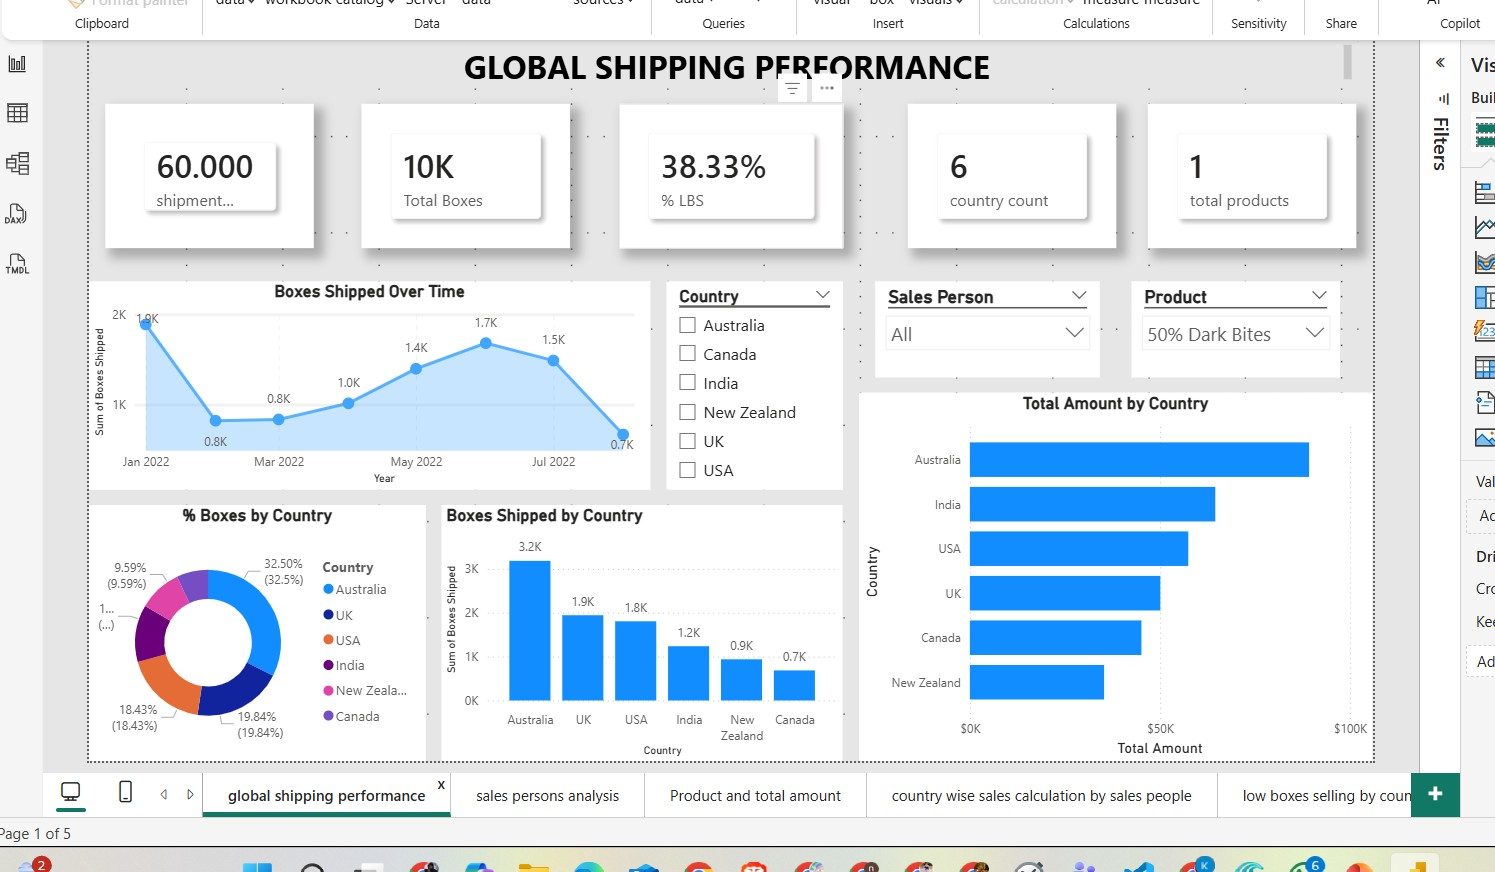

What the dashboard file says about the page in this screenshot:
{"tool":"powerbi","page":{"name":"global shipping performance","canvas":[1280,720],"ordinal":0},"visuals":[{"type":"textbox","box":[16,0,1248,48],"z":0},{"type":"cardVisual","fields":{"Data":["data.shipment count"]},"box":[16,64,208,144],"z":1000},{"type":"cardVisual","fields":{"Data":["data.Total Boxes"]},"box":[272,64,208,144],"z":2000},{"type":"cardVisual","fields":{"Data":["data.% LBS"]},"box":[528,64,224,144],"z":3000},{"type":"cardVisual","fields":{"Data":["data.country count"]},"box":[816,64,208,144],"z":4000},{"type":"cardVisual","fields":{"Data":["data.total products"]},"box":[1056,64,208,144],"z":5000},{"type":"donutChart","fields":{"Y":["data.% Boxes"],"Category":["data.Country"]},"box":[0,464,336,256],"z":6000},{"type":"lineChart","title":"Boxes Shipped Over Time","fields":{"Category":["data.Date.Variation.Date Hierarchy.Year","data.Date.Variation.Date Hierarchy.Quarter","data.Date.Variation.Date Hierarchy.Month"],"Y":["Sum(data.Boxes Shipped)"]},"box":[0,240,560,208],"z":7000},{"type":"slicer","fields":{"Values":["data.Product"]},"box":[1040,240,208,96],"z":8000},{"type":"slicer","fields":{"Values":["data.Sales Person"]},"box":[784,240,224,96],"z":9000},{"type":"clusteredColumnChart","title":"Boxes Shipped by Country","fields":{"Category":["data.Country"],"Y":["Sum(data.Boxes Shipped)"]},"box":[352,464,400,256],"z":10000},{"type":"barChart","fields":{"Category":["data.Country"],"Y":["data.Total Amount"]},"box":[768,352,512,368],"z":11000},{"type":"slicer","fields":{"Values":["data.Country"]},"box":[576,240,176,208],"z":12000}]}

Visuals, with their boxes on the page's 1280x720 design canvas (x1, y1, x2, y2). These are canvas units, not pixel positions in the 1495x872 screenshot, which may show the page scaled, cropped or inside an application window:
textbox: (16,0,1264,48)
cardVisual - data.shipment count: (16,64,224,208)
cardVisual - data.Total Boxes: (272,64,480,208)
cardVisual - data.% LBS: (528,64,752,208)
cardVisual - data.country count: (816,64,1024,208)
cardVisual - data.total products: (1056,64,1264,208)
donutChart - data.% Boxes x data.Country: (0,464,336,720)
"Boxes Shipped Over Time" lineChart: (0,240,560,448)
slicer - data.Product: (1040,240,1248,336)
slicer - data.Sales Person: (784,240,1008,336)
"Boxes Shipped by Country" clusteredColumnChart: (352,464,752,720)
barChart - data.Country x data.Total Amount: (768,352,1280,720)
slicer - data.Country: (576,240,752,448)
